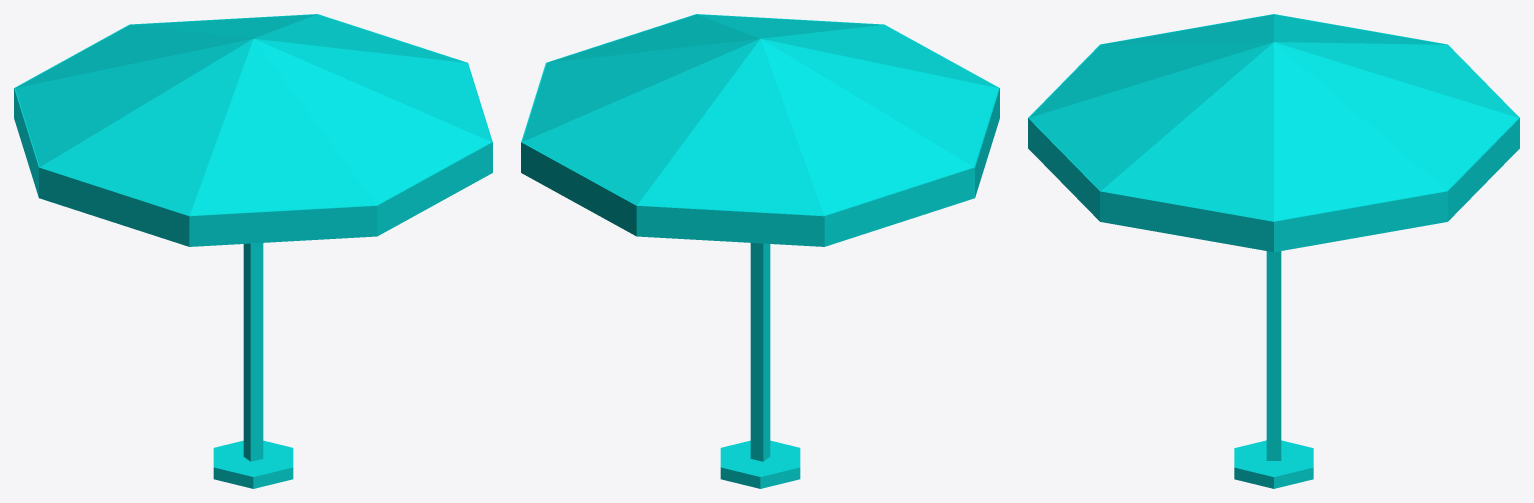
File: SM_Prop_Umbrella_02_Collision.fbx
3 renders of one model, left to right at view 1: azimuth 30°, elevation 25°; view 2: azimuth 150°, elevation 25°; view 3: azimuth 270°, elevation 25°, orthographic.
Parts seen in each view (by area): view 1: SM_Prop_Umbrella_02_Collision; view 2: SM_Prop_Umbrella_02_Collision; view 3: SM_Prop_Umbrella_02_Collision.
Boxes of the visible parts, bbox=[...] form: SM_Prop_Umbrella_02_Collision: bbox=[14, 14, 492, 488]; SM_Prop_Umbrella_02_Collision: bbox=[521, 14, 999, 488]; SM_Prop_Umbrella_02_Collision: bbox=[1028, 14, 1519, 488].
Size of the model in its own units: 331 by 318 by 331.
